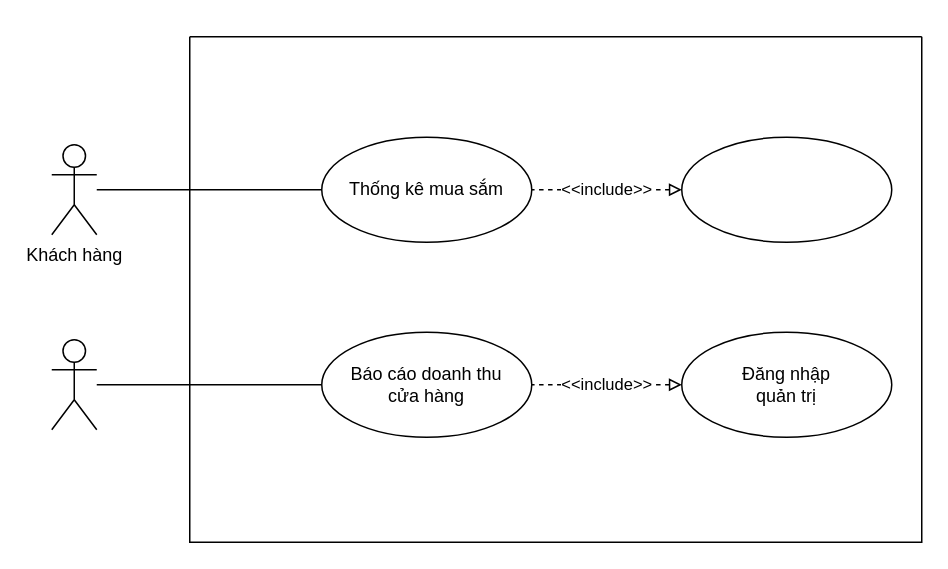
The diagram is 948 pixels wide and 569 high, and some of its shapes have lost their labels. Here are the shapes that lost their labels. From the top down, the centre of each, then its label:
the point at 786,189: Đăng nhập
the point at 73,384: Quản trị
